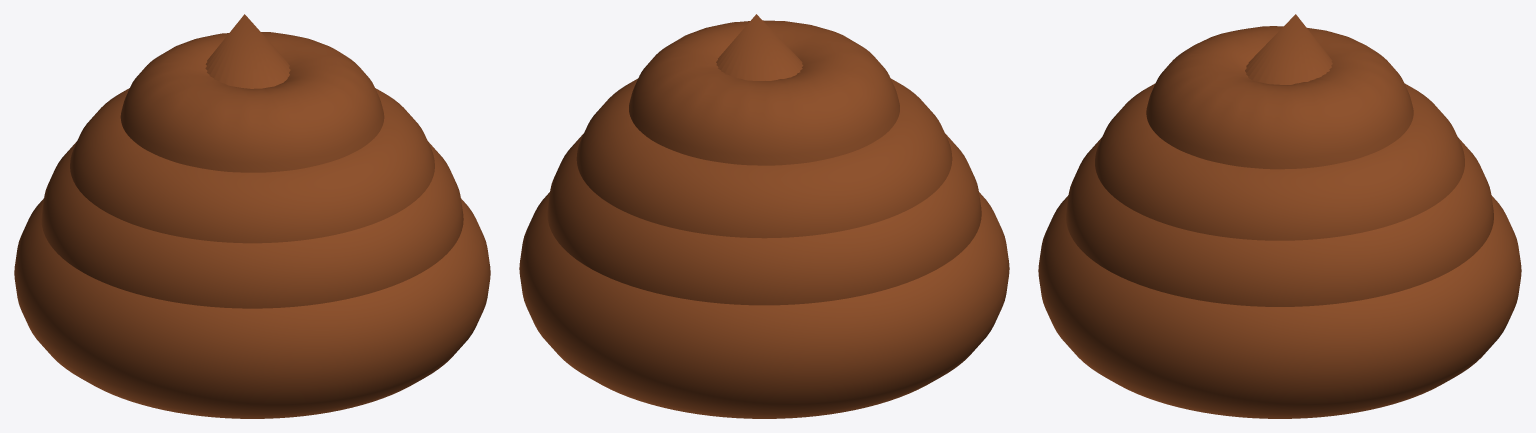
File: Poop (1).fbx
The picture shows the model from 3 angles, left to right: view 1: azimuth 30°, elevation 25°; view 2: azimuth 150°, elevation 25°; view 3: azimuth 270°, elevation 25°; orthographic projection. The views are drawn at different scales.
Parts seen in each view (by area): view 1: Torus; view 2: Torus; view 3: Torus.
Part boxes in pixels (x1,y1,x2,y2): Torus: (14,14,490,418); Torus: (519,14,1009,418); Torus: (1038,14,1521,418).
Size of the model in its own units: 111 by 83.17 by 111.
